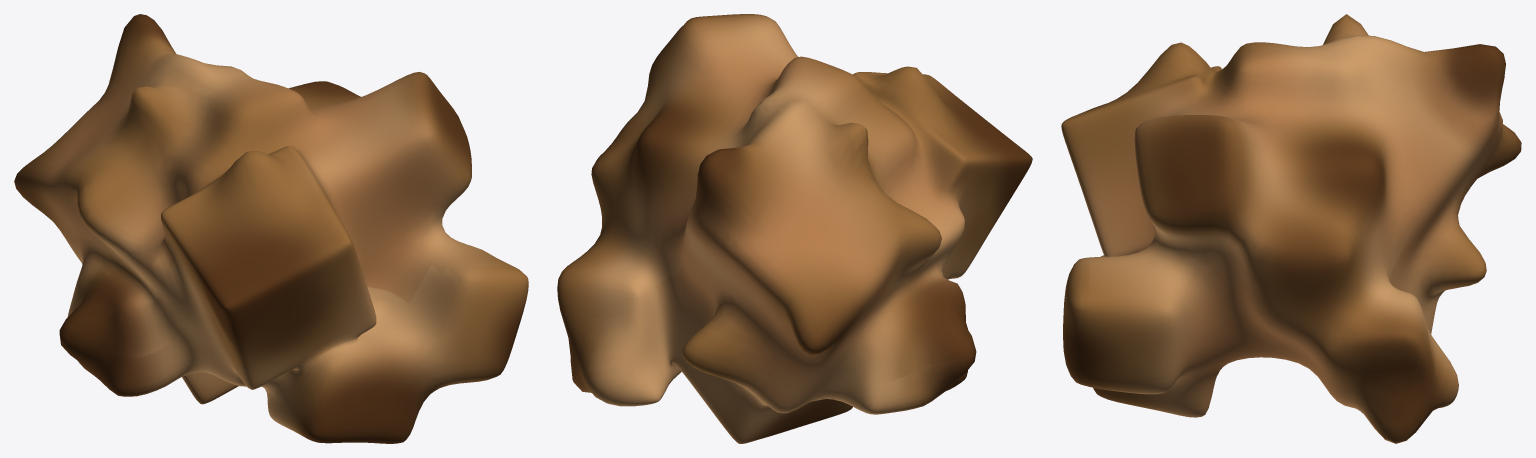
File: planetF.gltf
The picture shows the model from 3 angles, left to right: view 1: azimuth 30°, elevation 25°; view 2: azimuth 150°, elevation 25°; view 3: azimuth 270°, elevation 25°; orthographic projection. The views are drawn at different scales.
Parts seen in each view (by area): view 1: planetF; view 2: planetF; view 3: planetF.
Boxes of the visible parts, x1,y1,x2,y2 form: planetF: [14, 14, 528, 443]; planetF: [557, 14, 1032, 443]; planetF: [1061, 14, 1521, 443].
Size of the model in its own units: 2.74 by 2.35 by 2.92.
1 material, 1 textured.
